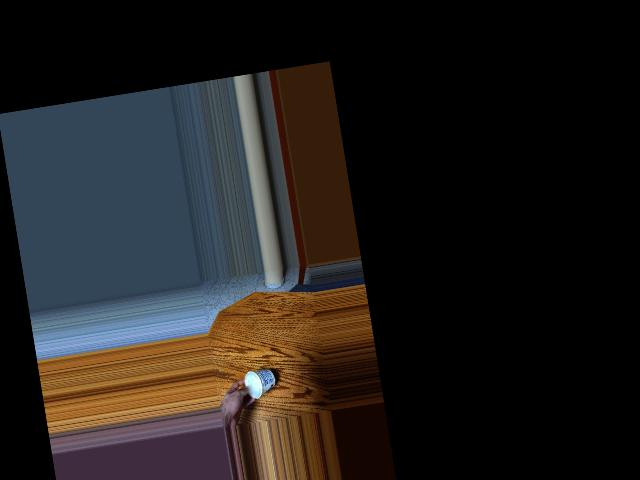cotage: (244, 364, 278, 398)
